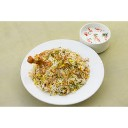briyani: (30, 50, 96, 93)
